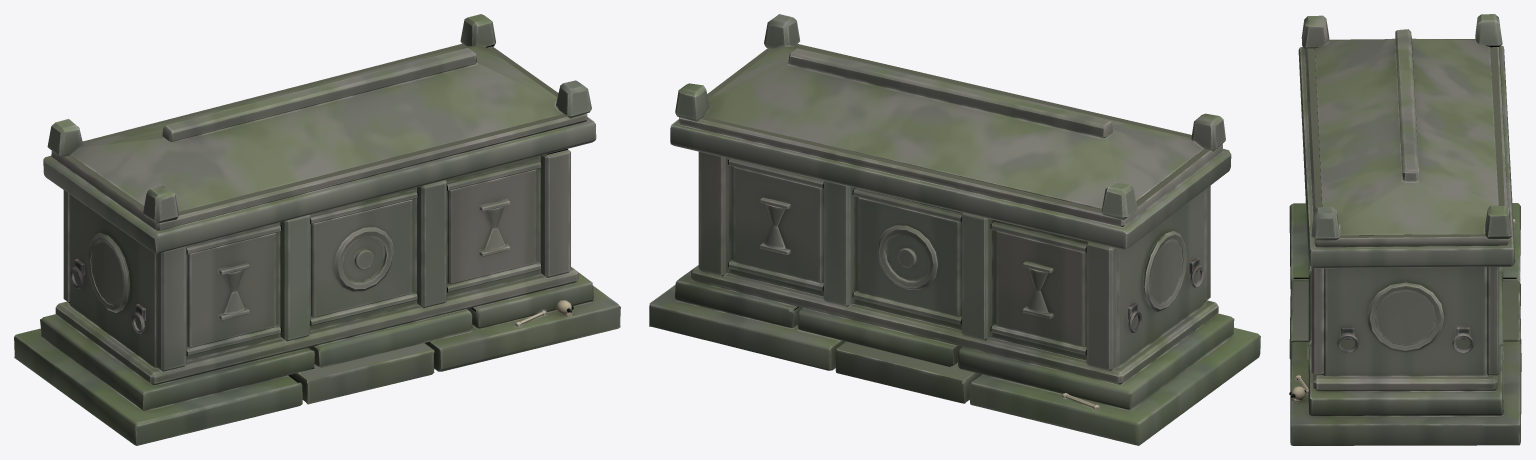
Rendered from crypt_tomb.glb.
3 renders of one model, left to right at view 1: azimuth 30°, elevation 25°; view 2: azimuth 150°, elevation 25°; view 3: azimuth 270°, elevation 25°, orthographic. The views are drawn at different scales.
Visible parts, largest first — view 1: crypt_tomb; view 2: crypt_tomb; view 3: crypt_tomb.
Boxes of the visible parts, <box> form: crypt_tomb: <box>14,14,620,445</box>; crypt_tomb: <box>649,14,1260,445</box>; crypt_tomb: <box>1289,14,1521,445</box>.
Bounding box in the file's own units: 6.42 × 3.19 × 2.82.
Materials: 1 (1 with a texture image).
